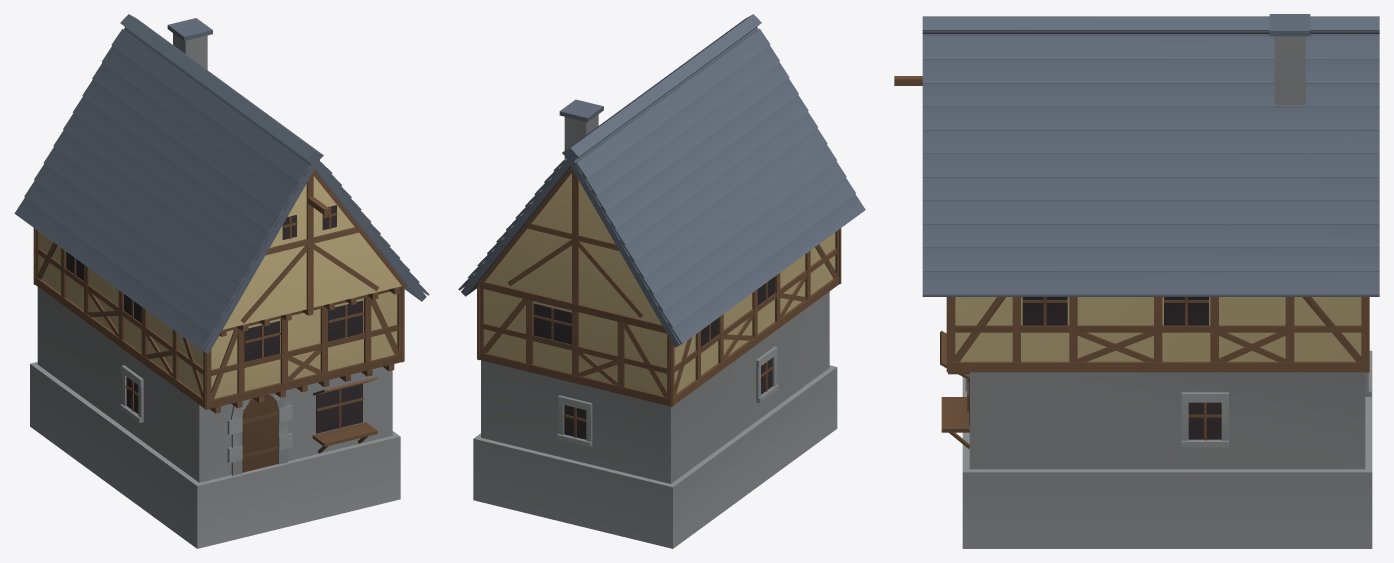
The model's file is house_1.glb.
The picture shows the model from 3 angles, left to right: view 1: azimuth 30°, elevation 25°; view 2: azimuth 150°, elevation 25°; view 3: azimuth 270°, elevation 25°; orthographic projection. The views are drawn at different scales.
Parts seen in each view (by area): view 1: house_1; view 2: house_1; view 3: house_1.
Boxes of the visible parts, x1,y1,x2,y2 form: house_1: (14, 14, 429, 548); house_1: (458, 14, 865, 548); house_1: (894, 14, 1379, 548).
Bounding box in the file's own units: 6.86 × 11.26 × 10.3.
